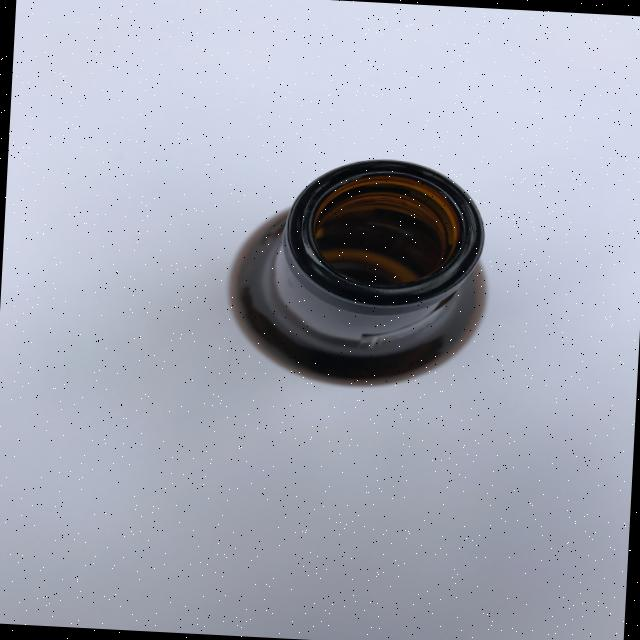glass: (222, 150, 492, 394)
